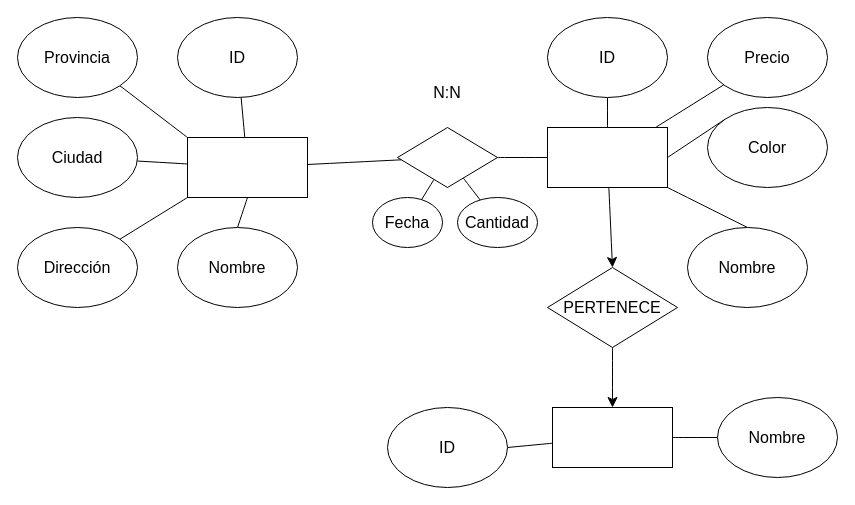
Image size: 855x505. Some labels were removed from this diagram. The shapes that lost their labels are listed below. From the top down, each one's centre as x and y in pixels, then its label:
(247,167): Proveedores
(447,157): Suministro
(607,157): Piezas
(612,437): Categorias
